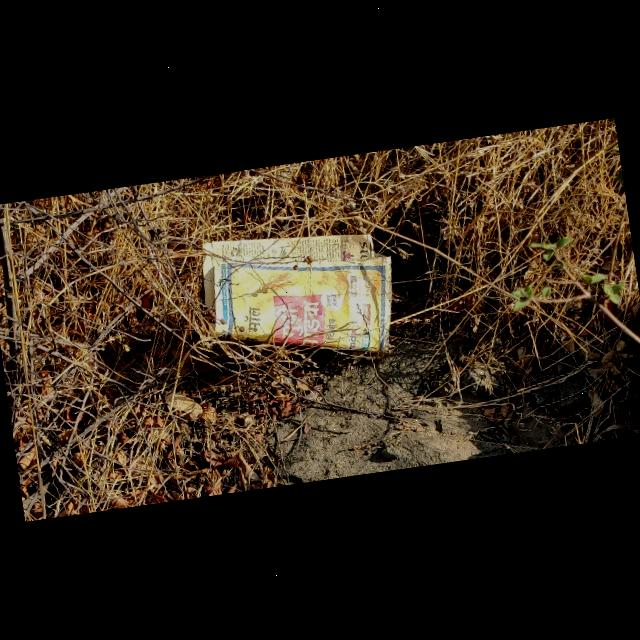trash: (195, 217, 404, 376)
